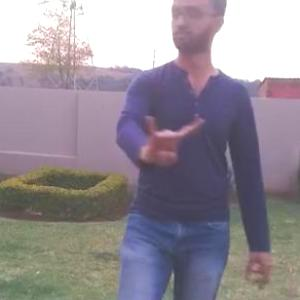takeoff-hand: (142, 108, 203, 177)
